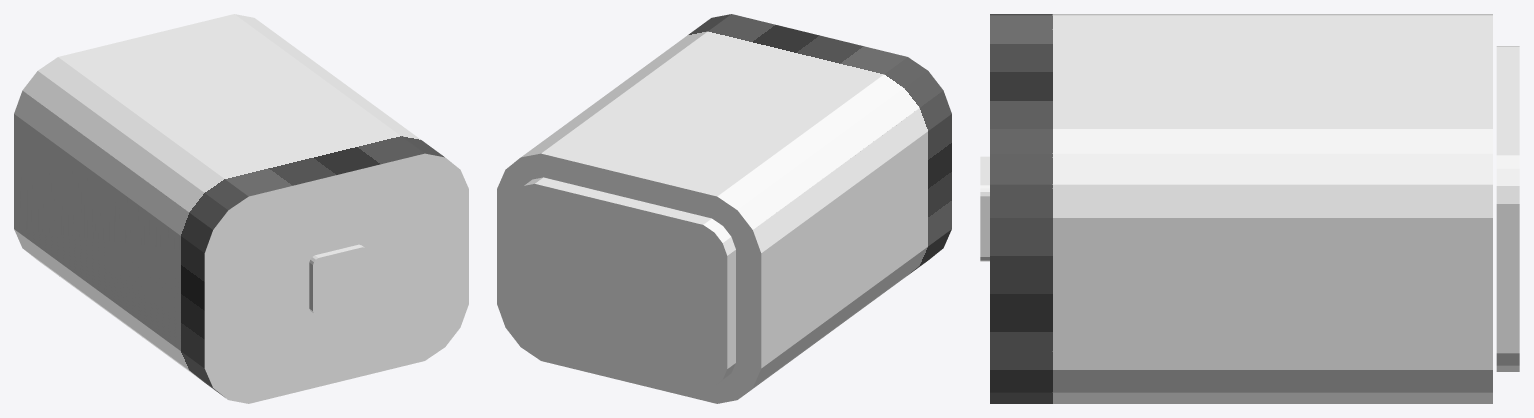
File: gpp_medium_electric_tc.obj
3 views of the same model, side by side, from view 1: azimuth 30°, elevation 25°; view 2: azimuth 150°, elevation 25°; view 3: azimuth 270°, elevation 25° (orthographic). The views are drawn at different scales.
Visible parts, largest first — view 1: case, shaft; view 2: case, battery; view 3: case, battery, shaft.
Part boxes in pixels (box(x1,y1,x2,y2)): case: box(14, 14, 468, 403); shaft: box(309, 244, 367, 315); case: box(497, 14, 951, 403); battery: box(510, 177, 735, 388); case: box(990, 14, 1492, 403); battery: box(1496, 46, 1519, 371); shaft: box(980, 156, 989, 261).
Bounding box in the file's own units: 0.558 × 0.4185 × 0.7478.
